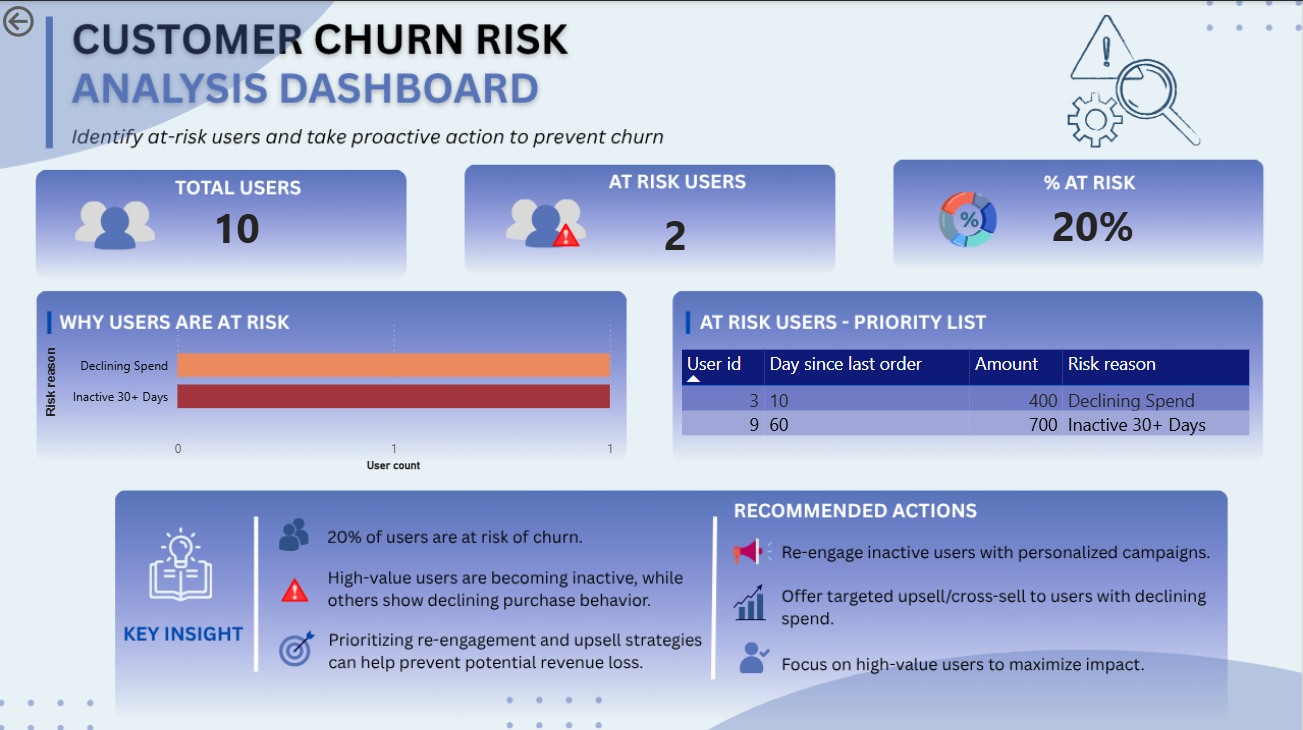

What the dashboard file says about the page in this screenshot:
{"tool":"powerbi","page":{"name":"Page 1","canvas":[1280,720],"ordinal":0},"visuals":[{"type":"card","title":"Total count","fields":{"Values":["Order.total_count"]},"box":[144.1,179.8,181.1,83.7],"z":0},{"type":"card","fields":{"Values":["Order.risk_users"]},"box":[576.3,192.1,177,71.4],"z":1000},{"type":"actionButton","box":[0,0,100,40],"z":2000},{"type":"card","fields":{"Values":["Order.% of risk_users"]},"box":[993.5,179.8,161.9,78.2],"z":3000},{"type":"clusteredBarChart","title":"Risk Distribution by User","fields":{"Y":["CountNonNull(Order.user_id)"],"Category":["Order.risk_reason"]},"box":[41.2,306,568.1,161.9],"z":4000},{"type":"tableEx","fields":{"Values":["Order.user_id","Order.day_since_last_order","Order.amount","Order.risk_reason"]},"box":[665.5,337.6,570.8,138.6],"z":5000}]}

Visuals, with their boxes in screenshot pixels (x1, y1, x2, y2), scaled from the page's 1280x720 canvas onto the 1303x730 screenshot:
"Total count" card: box=[147, 182, 331, 267]
card - Order.risk_users: box=[587, 195, 767, 267]
actionButton: box=[0, 0, 102, 41]
card - Order.% of risk_users: box=[1011, 182, 1176, 262]
"Risk Distribution by User" clusteredBarChart: box=[42, 310, 620, 474]
tableEx - Order.user_id x Order.day_since_last_order: box=[677, 342, 1259, 483]
